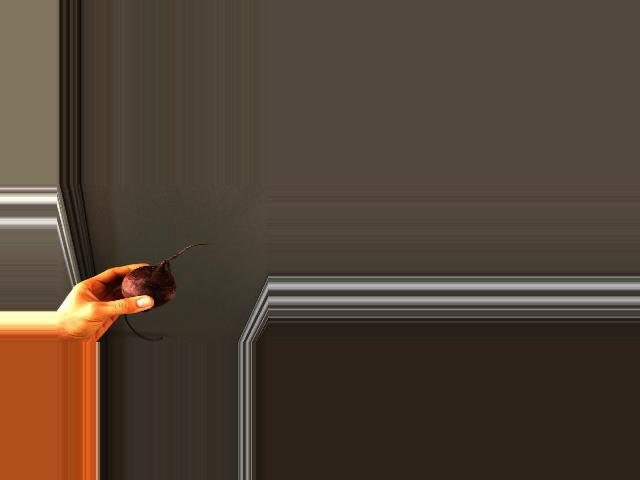beet: (122, 244, 210, 341)
